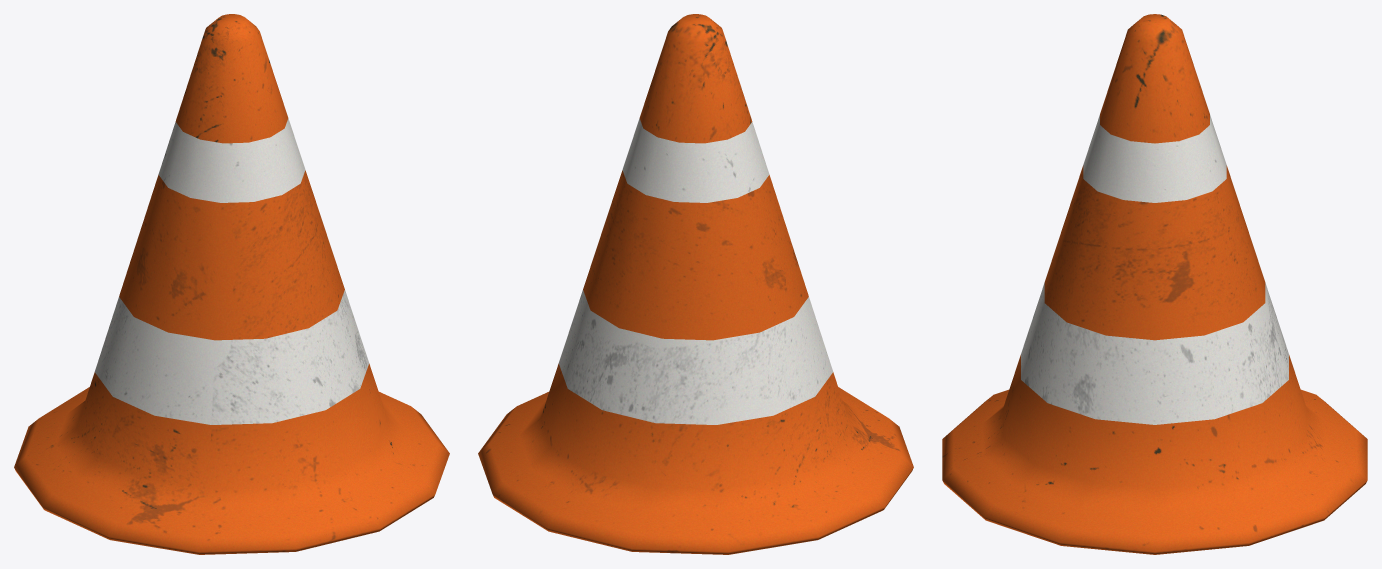
Rendered from traffic_cone.glb.
3 renders of one model, left to right at view 1: azimuth 30°, elevation 25°; view 2: azimuth 150°, elevation 25°; view 3: azimuth 270°, elevation 25°, orthographic.
Visible parts, largest first — view 1: cone1_obj.001; view 2: cone1_obj.001; view 3: cone1_obj.001.
Boxes of the visible parts, x1,y1,x2,y2 form: cone1_obj.001: (14,14,449,554); cone1_obj.001: (478,14,913,554); cone1_obj.001: (942,14,1367,554).
Size of the model in its own units: 1.44 by 1.61 by 1.4.
1 material, 1 textured.
